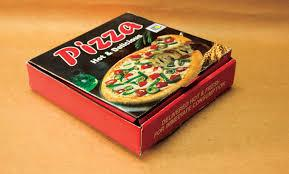Cardboard: (10, 7, 286, 161)
